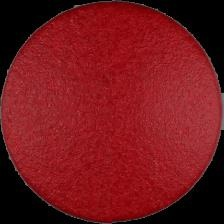50436-5890: (0, 0, 224, 224)
